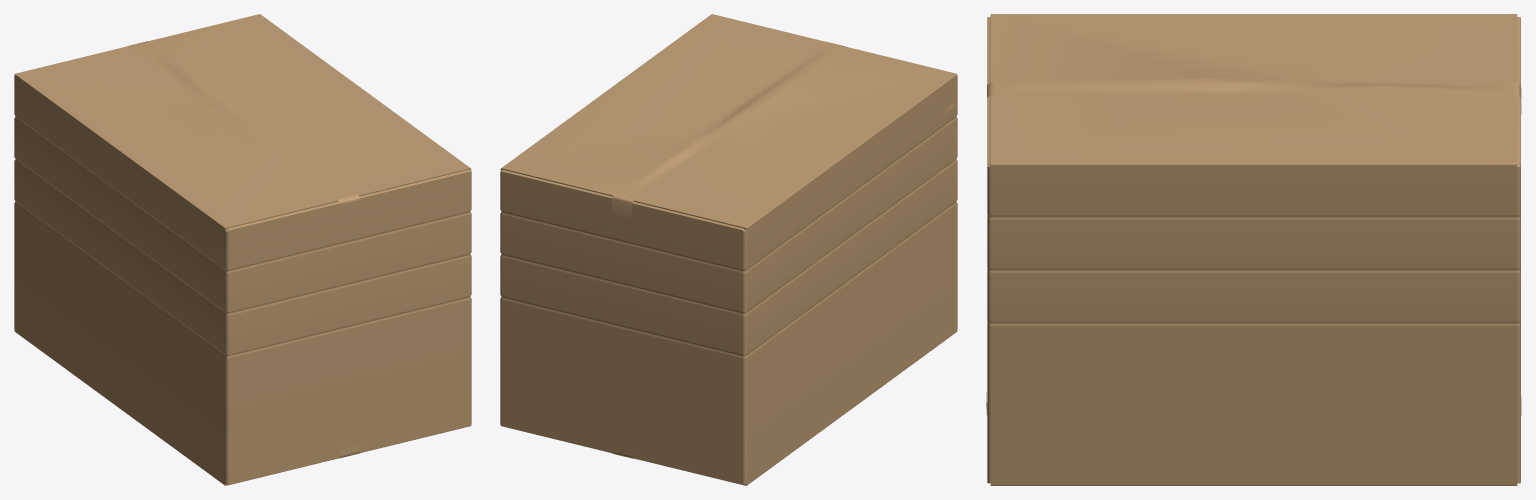
Rendered from box_multiDepth_brown_b10.glb.
3 renders of one model, left to right at view 1: azimuth 30°, elevation 25°; view 2: azimuth 150°, elevation 25°; view 3: azimuth 270°, elevation 25°, orthographic. The views are drawn at different scales.
Size of the model in its own units: 0.3047 by 0.3091 by 0.4582.
